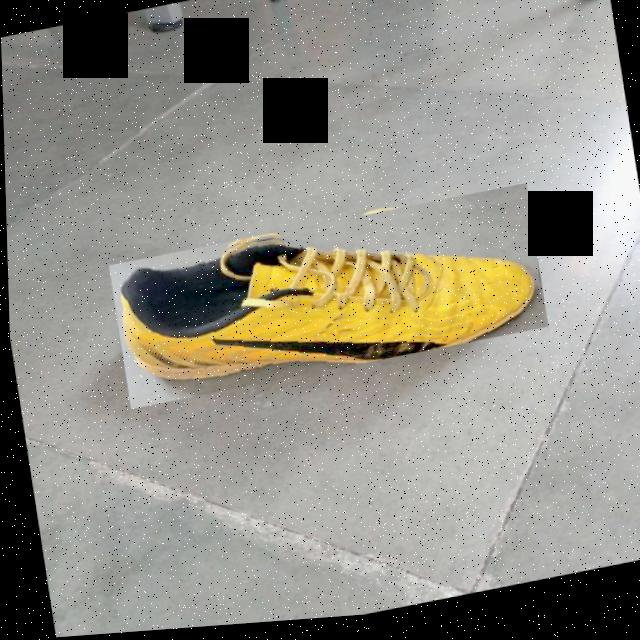shoe: (106, 189, 547, 412)
